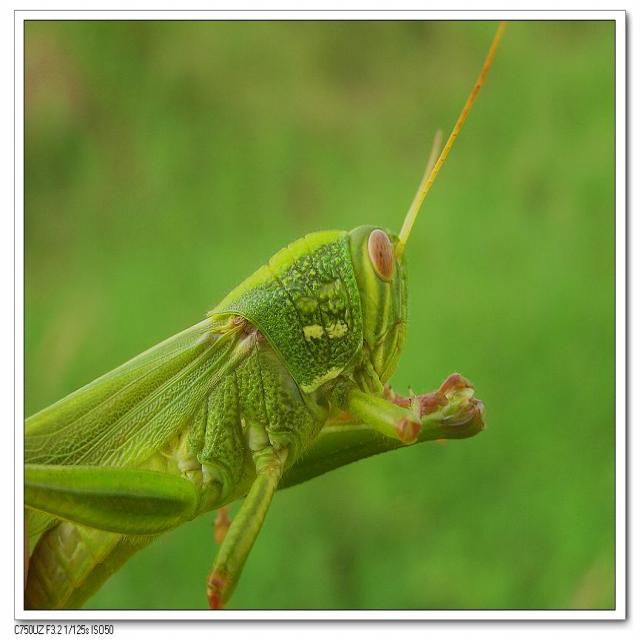ZhaMeng: (29, 211, 442, 585)
